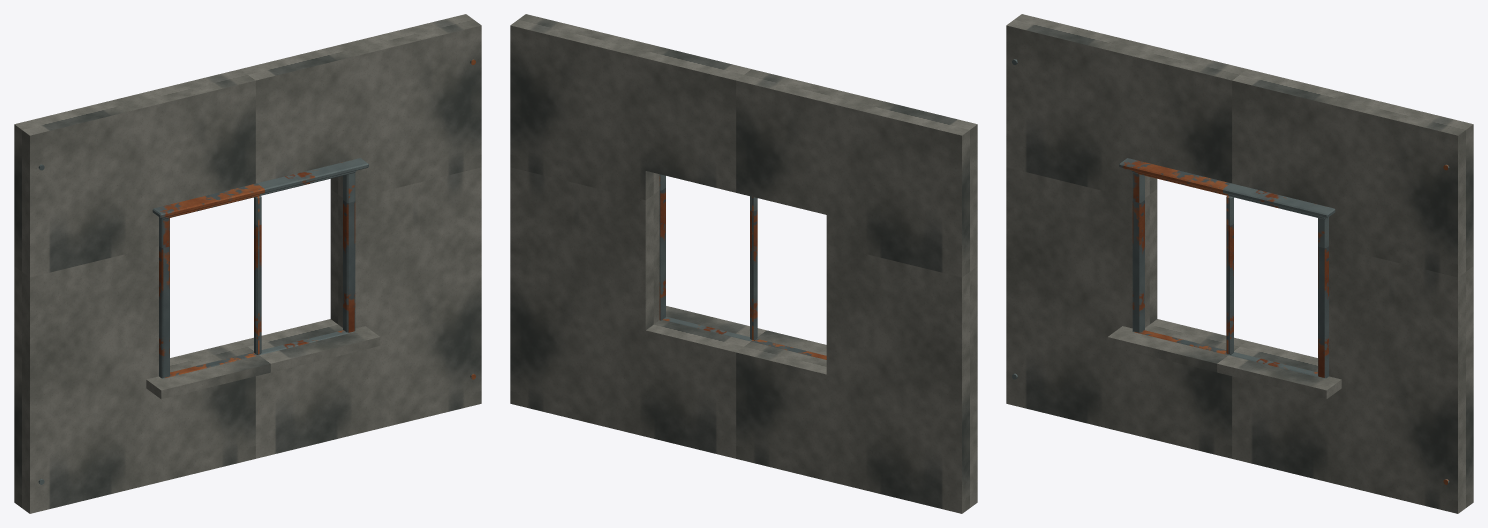
Rendered from wall_window_4m_v03.glb.
3 views of the same model, side by side, from view 1: azimuth 30°, elevation 25°; view 2: azimuth 150°, elevation 25°; view 3: azimuth 330°, elevation 25° (orthographic).
Parts seen in each view (by area): view 1: concrete_combined, steel_combined; view 2: concrete_combined, steel_combined; view 3: concrete_combined, steel_combined.
Part boxes in pixels (box(x1,y1,x2,y2)): concrete_combined: box(14, 14, 481, 513); steel_combined: box(38, 59, 475, 484); concrete_combined: box(510, 14, 977, 513); steel_combined: box(659, 174, 826, 359); concrete_combined: box(1006, 14, 1473, 513); steel_combined: box(1012, 59, 1449, 484).
Size of the model in its own units: 4 by 3.2 by 0.47.
Materials: 2 (2 with a texture image).
